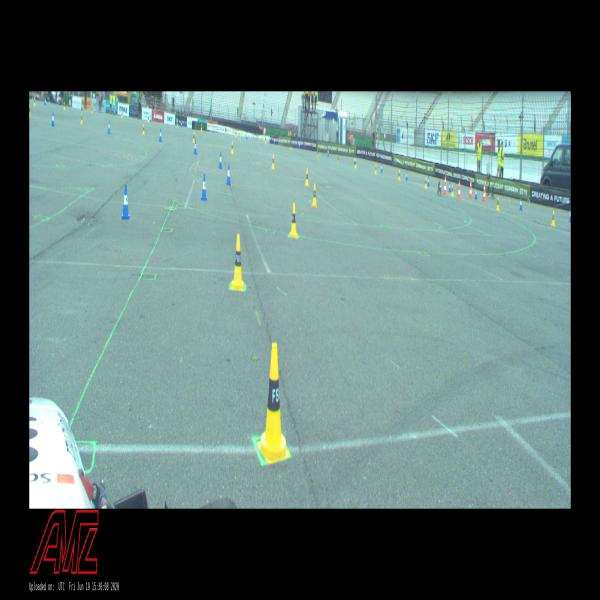blue_cone: (121, 184, 130, 220), (201, 173, 207, 201), (226, 164, 231, 186), (218, 152, 222, 168), (51, 112, 55, 126), (107, 120, 111, 134), (194, 140, 197, 155), (159, 129, 162, 142), (519, 198, 522, 210), (448, 182, 451, 192), (569, 208, 571, 222), (427, 177, 430, 186), (475, 188, 477, 199), (44, 96, 46, 106), (81, 102, 83, 111), (327, 148, 329, 156), (235, 129, 237, 137), (246, 132, 248, 140), (406, 171, 407, 181), (381, 164, 382, 172), (354, 157, 355, 164)
large_orange_cone: (443, 175, 447, 195), (457, 179, 461, 199), (483, 183, 486, 202), (469, 180, 472, 198)
yellow_cone: (257, 343, 290, 464), (230, 234, 244, 290), (290, 202, 297, 238), (312, 184, 317, 207), (305, 169, 309, 186), (552, 210, 556, 226), (271, 154, 275, 169), (496, 197, 499, 211), (231, 141, 234, 154), (192, 132, 195, 143), (142, 124, 145, 134), (29, 103, 31, 116), (81, 112, 83, 124), (451, 184, 453, 196), (63, 102, 66, 110), (398, 170, 400, 180), (375, 164, 377, 174), (425, 178, 427, 188), (34, 97, 36, 106), (121, 111, 123, 119), (176, 119, 178, 127), (91, 106, 93, 113), (148, 115, 150, 122), (355, 159, 356, 168), (337, 155, 338, 163), (265, 136, 266, 144), (201, 123, 202, 131), (150, 114, 151, 122)
